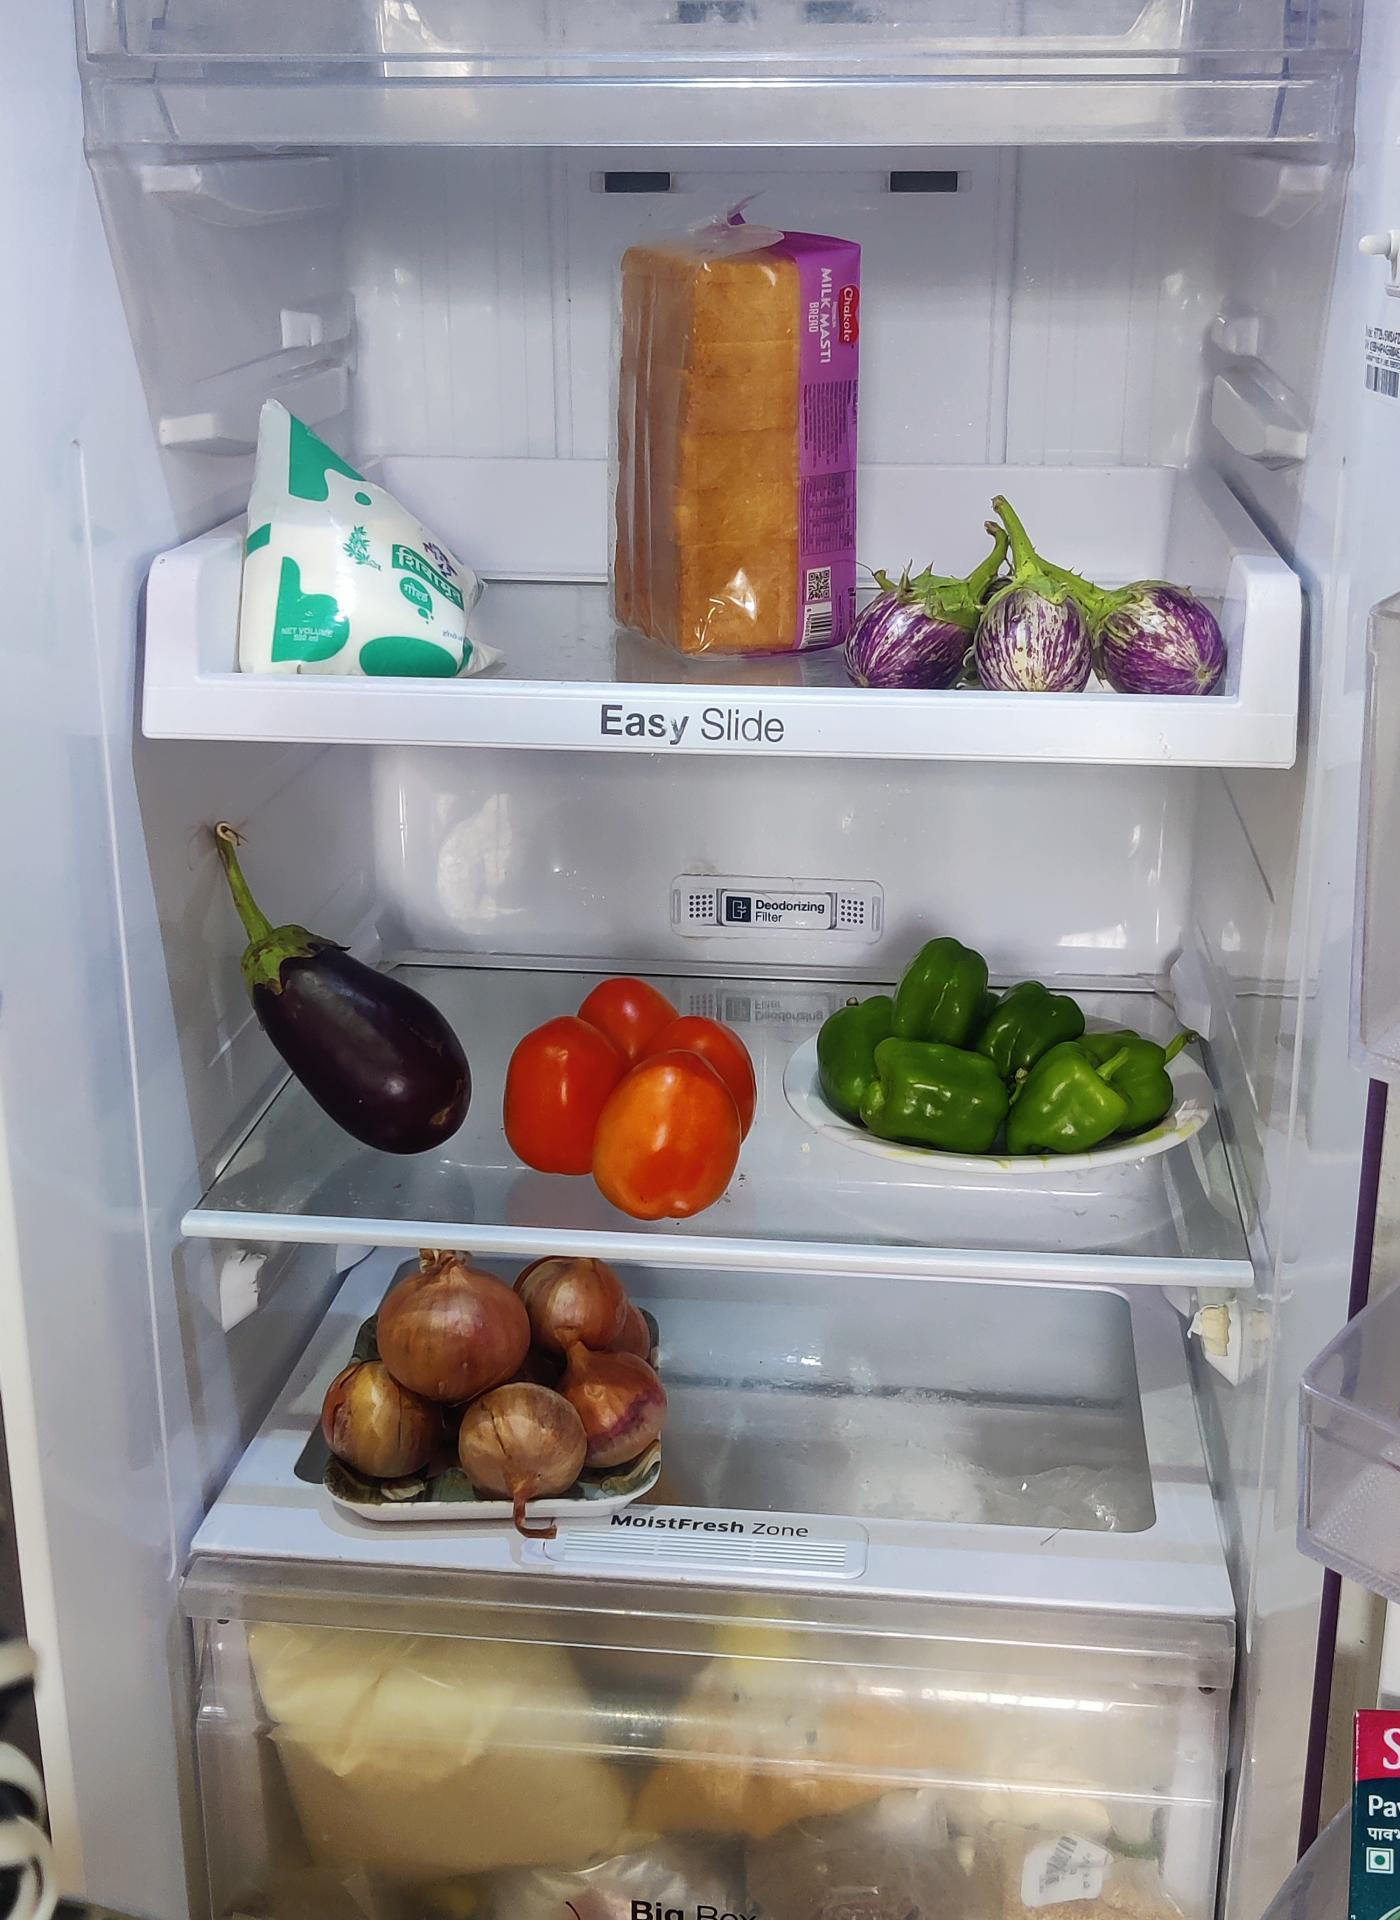bread: (604, 213, 871, 659)
brinjal: (230, 871, 471, 1161), (860, 553, 1239, 690)
capsicum: (813, 936, 1191, 1160)
milk: (236, 392, 491, 672)
onion: (319, 1246, 666, 1497)
tomato: (502, 967, 759, 1209)
